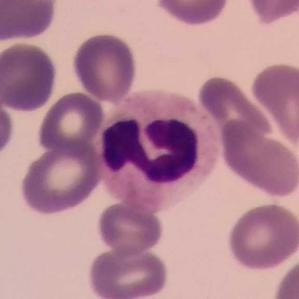Neutrophil: (94, 84, 223, 206)
RBC: (94, 85, 224, 210), (17, 139, 104, 217), (217, 123, 299, 201), (196, 73, 274, 145), (225, 201, 299, 272), (70, 30, 140, 103), (86, 243, 171, 299), (35, 89, 106, 156), (249, 59, 299, 148), (0, 40, 60, 113), (94, 200, 166, 257), (0, 0, 60, 42), (152, 0, 232, 28), (243, 0, 299, 26), (271, 252, 299, 299), (0, 89, 17, 164)
